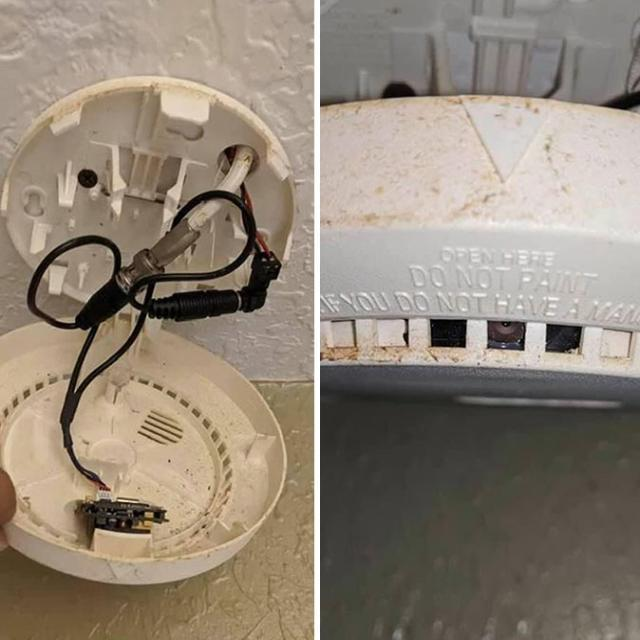hidden camera: (494, 313, 518, 332)
